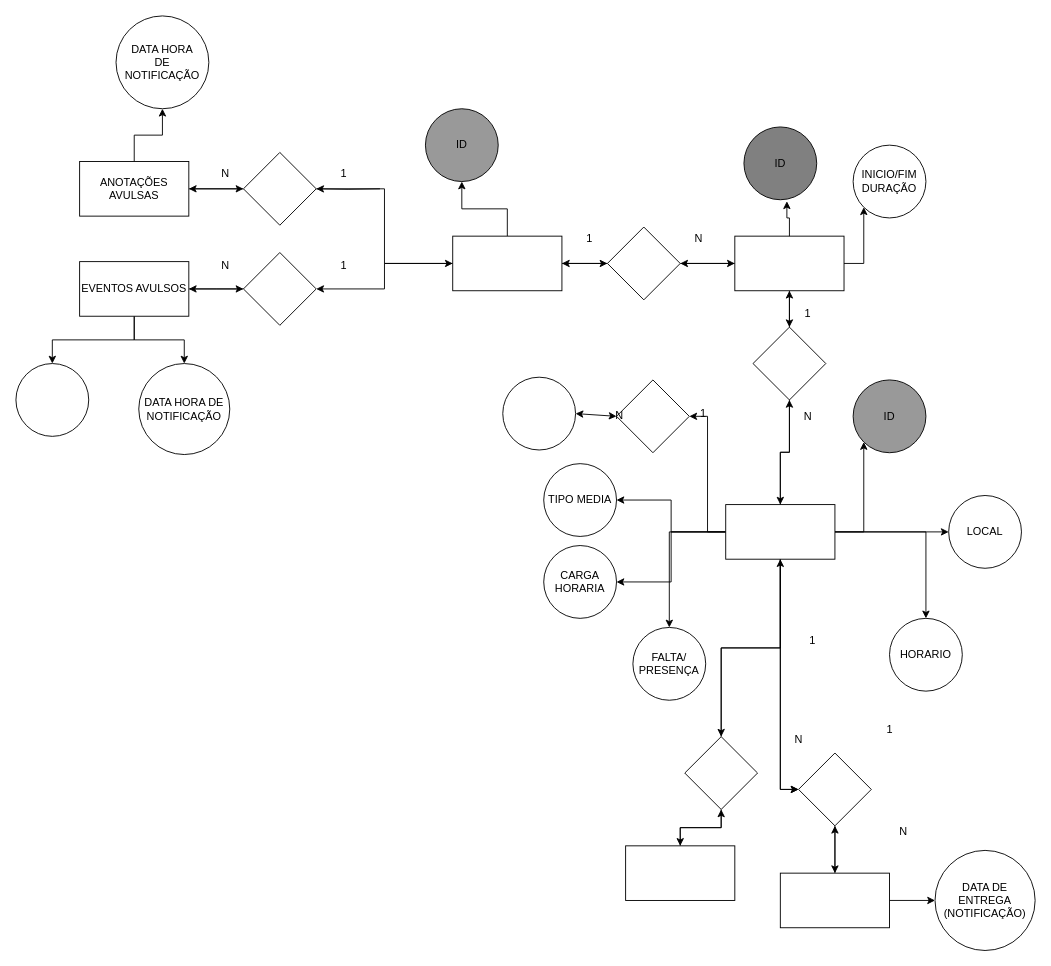
Some shapes in this 1051 by 966 pixel diagram are drawn without their labels. Each missing label, with the centre of its shape:
ANOTAÇÕES DA DISCIPLINA: pixel 680 872
DATA/HORA: pixel 52 399
DISCIPLINA: pixel 780 531
EVENTOS DA DISCIPLINA (PROVAS, TRABALHOS): pixel 834 900
NOTAS INDIVIDUAIS: pixel 539 413
SEMESTRE/ANO: pixel 789 263
USUARIO: pixel 507 263
